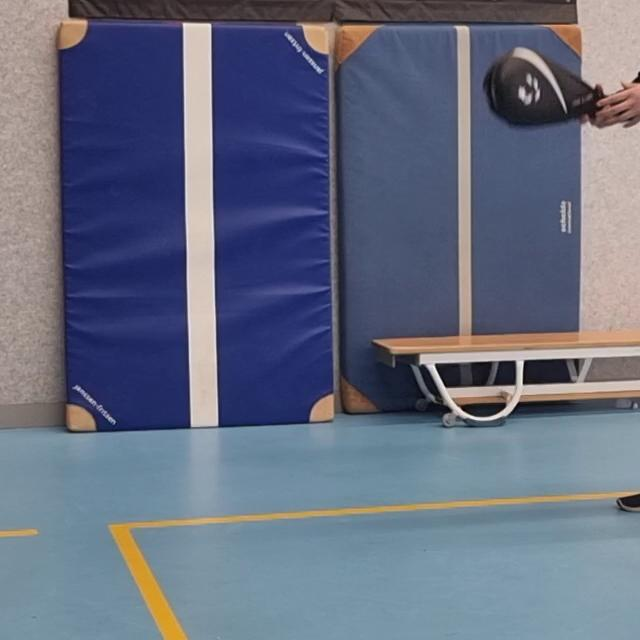paddle: (483, 48, 616, 129)
